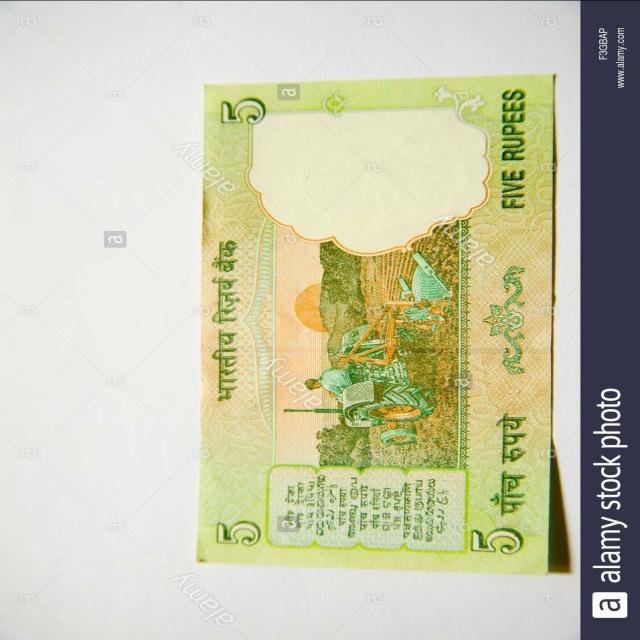5IndianRupees: (201, 87, 555, 562)
